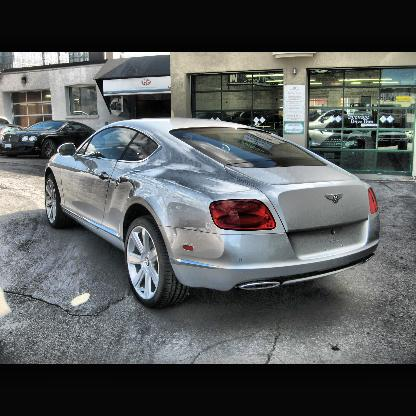Bentley Continental GT Coupe 2012: (44, 117, 385, 308)
